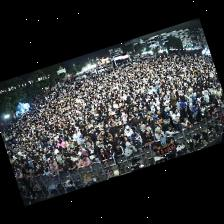person: (112, 144, 124, 170), (142, 130, 155, 146), (99, 148, 110, 166), (78, 154, 91, 169), (172, 108, 181, 129), (63, 159, 77, 172), (163, 124, 177, 136), (125, 143, 137, 156), (104, 138, 113, 154), (133, 113, 143, 126), (155, 127, 165, 140), (126, 117, 136, 130), (152, 118, 162, 131), (66, 146, 77, 157), (132, 138, 142, 150), (140, 125, 150, 137), (163, 106, 170, 123), (125, 126, 133, 140), (182, 118, 193, 128), (113, 133, 123, 144), (71, 152, 80, 164), (122, 136, 131, 148), (87, 142, 95, 155), (196, 110, 204, 123), (193, 101, 199, 118), (48, 159, 59, 168), (133, 132, 142, 143), (171, 94, 179, 106), (43, 165, 51, 177), (34, 167, 44, 176), (181, 97, 189, 108), (56, 152, 64, 163), (109, 122, 117, 133), (90, 155, 99, 164), (209, 104, 217, 114), (201, 99, 206, 115), (136, 121, 142, 134), (51, 167, 59, 176), (16, 170, 24, 179), (188, 114, 195, 124), (215, 102, 222, 111), (117, 128, 124, 137), (78, 146, 85, 155), (96, 140, 104, 147), (203, 110, 210, 118), (30, 170, 35, 180), (189, 99, 193, 111), (40, 158, 49, 163), (40, 161, 49, 166)
